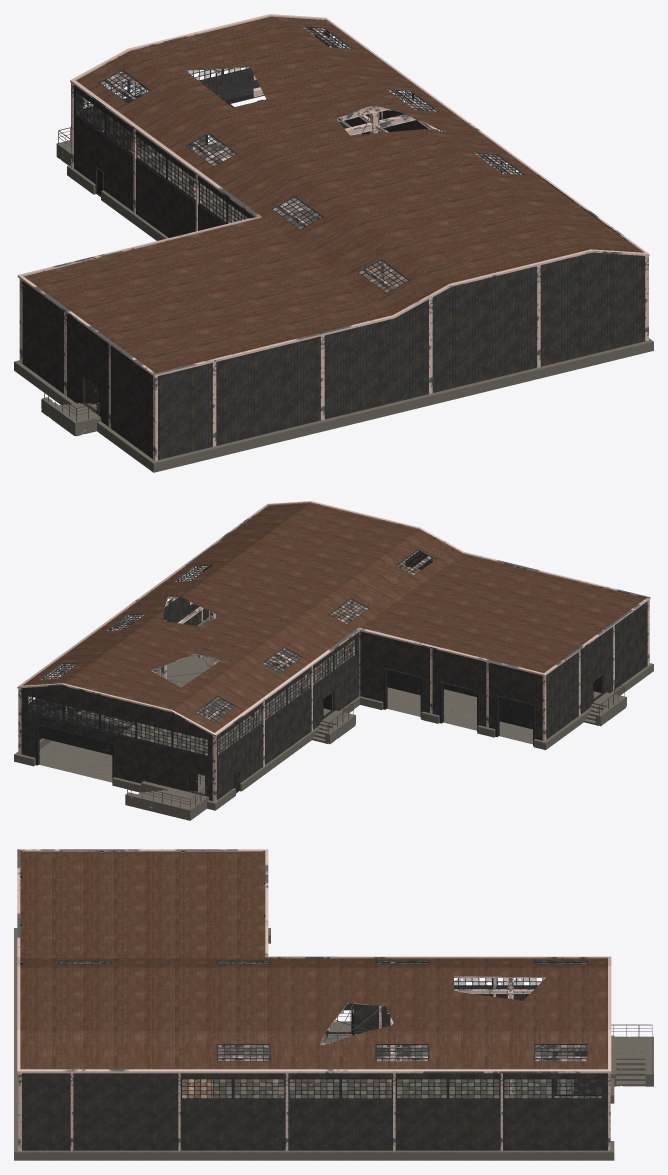
File: warehouse.glb
The picture shows the model from 3 angles, top to bottom: view 1: azimuth 30°, elevation 25°; view 2: azimuth 150°, elevation 25°; view 3: azimuth 270°, elevation 25°; orthographic projection. The views are drawn at different scales.
Visible parts, largest first — view 1: Roof, WarehouseWalls, WarehouseBase, Windows, SideSupportBeam, MainSupportBeam, ConcreteSteps, Floor, MainGate.001; view 2: Roof, WarehouseWalls, Floor, Windows, ConcreteSteps, WarehouseBase, SideSupportBeam, MainSupportBeam, MainGate.001, SmallGateVar1, SmallGateVar2, Railings (+2 smaller); view 3: Roof, WarehouseWalls, Windows, WarehouseBase, Floor, ConcreteSteps, MainSupportBeam, SideSupportBeam, MainGate.001, Walkway.001.
Boxes of the visible parts, x1=… form: Roof: x1=17, y1=14, x2=649, y2=376; WarehouseWalls: x1=22, y1=31, x2=644, y2=459; WarehouseBase: x1=14, y1=121, x2=653, y2=472; Windows: x1=76, y1=26, x2=524, y2=293; SideSupportBeam: x1=19, y1=83, x2=648, y2=461; MainSupportBeam: x1=101, y1=27, x2=513, y2=289; ConcreteSteps: x1=41, y1=140, x2=175, y2=436; Floor: x1=156, y1=142, x2=316, y2=229; MainGate.001: x1=205, y1=41, x2=323, y2=145; Roof: x1=17, y1=501, x2=650, y2=736; WarehouseWalls: x1=21, y1=551, x2=647, y2=800; Floor: x1=39, y1=644, x2=532, y2=784; Windows: x1=27, y1=549, x2=436, y2=756; ConcreteSteps: x1=125, y1=691, x2=626, y2=820; WarehouseBase: x1=14, y1=616, x2=653, y2=810; SideSupportBeam: x1=18, y1=537, x2=649, y2=801; MainSupportBeam: x1=48, y1=550, x2=431, y2=755; MainGate.001: x1=35, y1=704, x2=135, y2=778; SmallGateVar1: x1=495, y1=695, x2=535, y2=745; SmallGateVar2: x1=383, y1=668, x2=422, y2=718; Railings: x1=127, y1=682, x2=624, y2=809; Roof: x1=17, y1=849, x2=611, y2=1073; WarehouseWalls: x1=22, y1=962, x2=607, y2=1150; Windows: x1=58, y1=960, x2=603, y2=1099; WarehouseBase: x1=14, y1=928, x2=614, y2=1160; Floor: x1=213, y1=1048, x2=601, y2=1098; ConcreteSteps: x1=322, y1=1021, x2=653, y2=1086; MainSupportBeam: x1=60, y1=961, x2=587, y2=1098; SideSupportBeam: x1=18, y1=851, x2=610, y2=1151; MainGate.001: x1=552, y1=1050, x2=601, y2=1096; Walkway.001: x1=182, y1=1079, x2=212, y2=1098.
Bounding box in the file's own units: 30.93 × 6.43 × 35.73.
13 materials, 13 textured.
